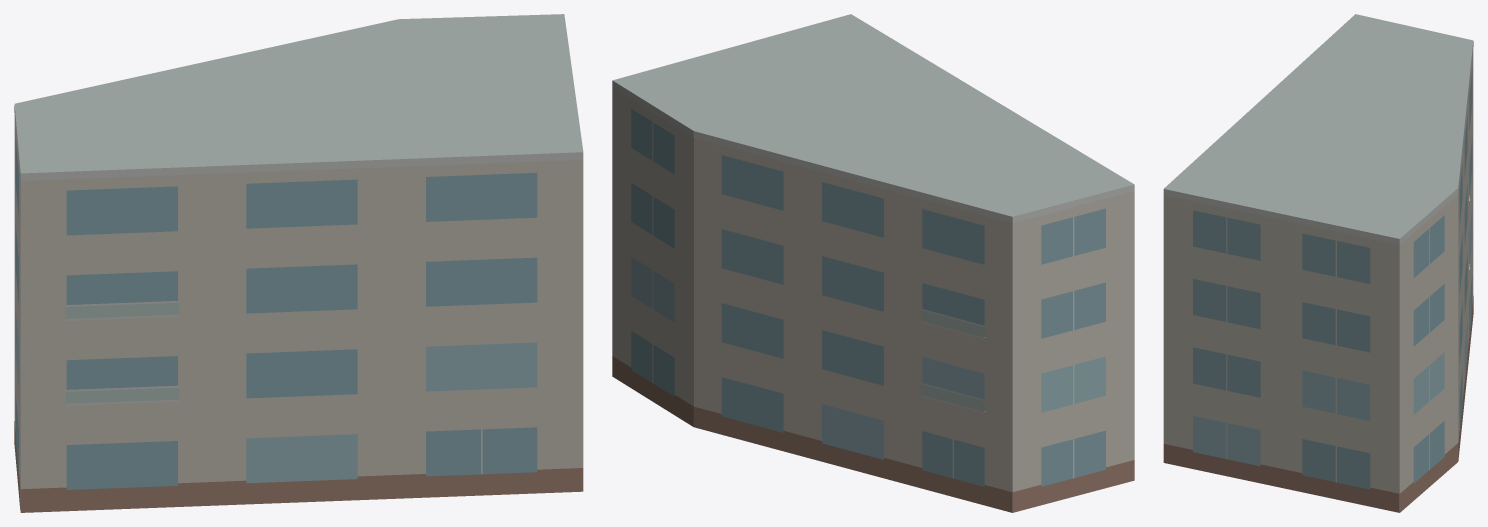
Rendered from survey-upis-33019141.glb.
3 views of the same model, side by side, from view 1: azimuth 30°, elevation 25°; view 2: azimuth 150°, elevation 25°; view 3: azimuth 270°, elevation 25° (orthographic). The views are drawn at different scales.
Visible parts, largest first — view 1: survey-upis-33019141.tmp; view 2: survey-upis-33019141.tmp; view 3: survey-upis-33019141.tmp.
Boxes of the visible parts, x1,y1,x2,y2 form: survey-upis-33019141.tmp: (14,14,583,512); survey-upis-33019141.tmp: (612,14,1134,512); survey-upis-33019141.tmp: (1163,14,1473,512).
Bounding box in the file's own units: 19.29 × 10.95 × 11.23.
